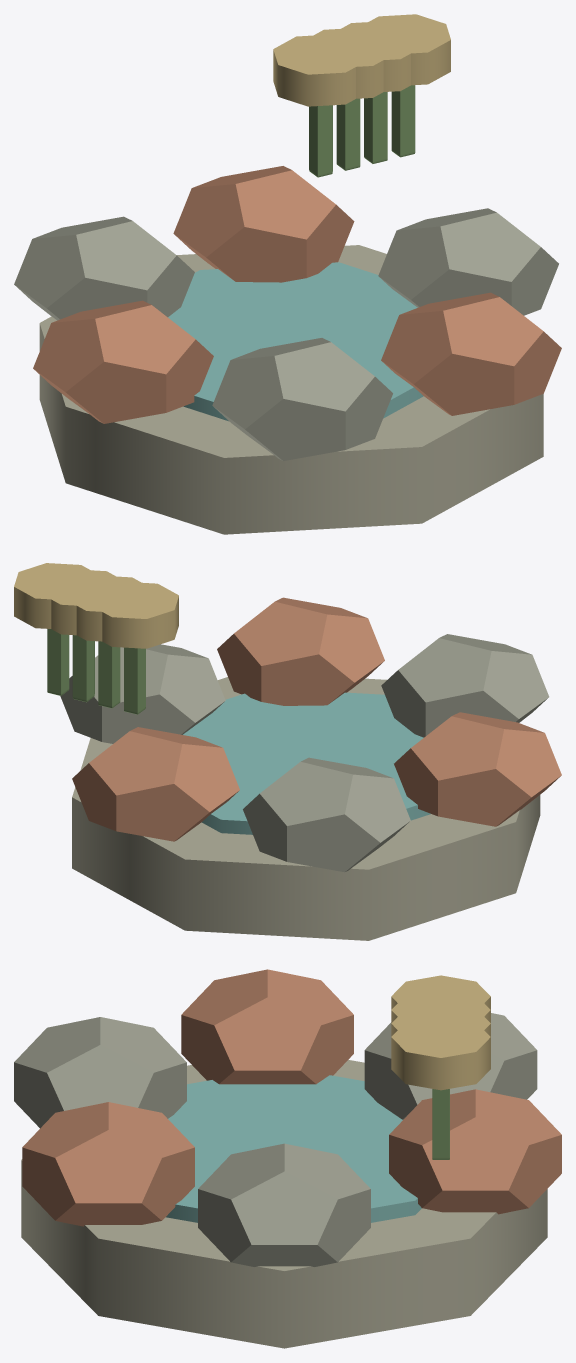
The model's file is riverstones-0.glb.
The picture shows the model from 3 angles, top to bottom: view 1: azimuth 30°, elevation 25°; view 2: azimuth 150°, elevation 25°; view 3: azimuth 270°, elevation 25°; orthographic projection. The views are drawn at different scales.
Visible parts, largest first — view 1: riverstones-0-0; view 2: riverstones-0-0; view 3: riverstones-0-0.
Boxes of the visible parts, x1,y1,x2,y2 form: riverstones-0-0: (14,14,561,534); riverstones-0-0: (14,563,561,940); riverstones-0-0: (14,969,561,1348).
Bounding box in the file's own units: 0.8219 × 0.455 × 0.77.
